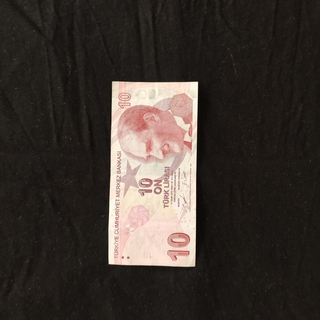10TLFront: (106, 80, 199, 268)
